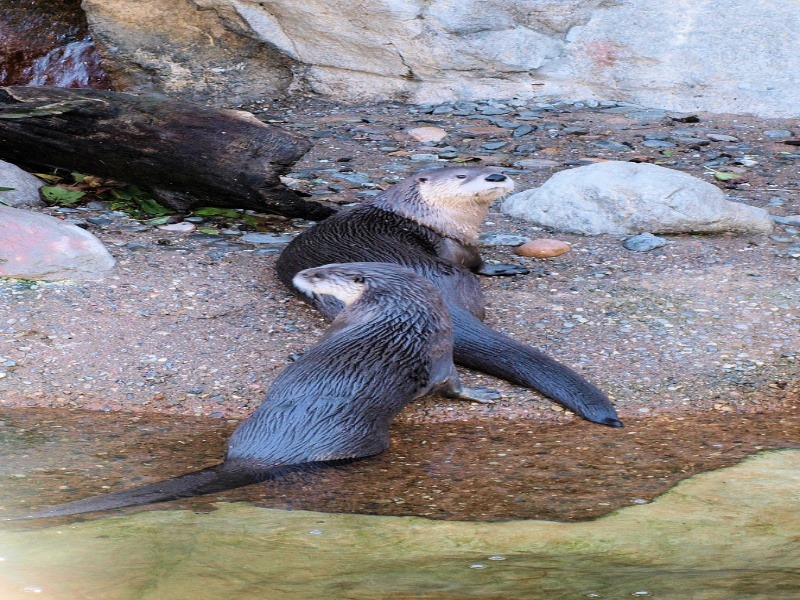minkish: (13, 254, 503, 527), (269, 160, 629, 438)
